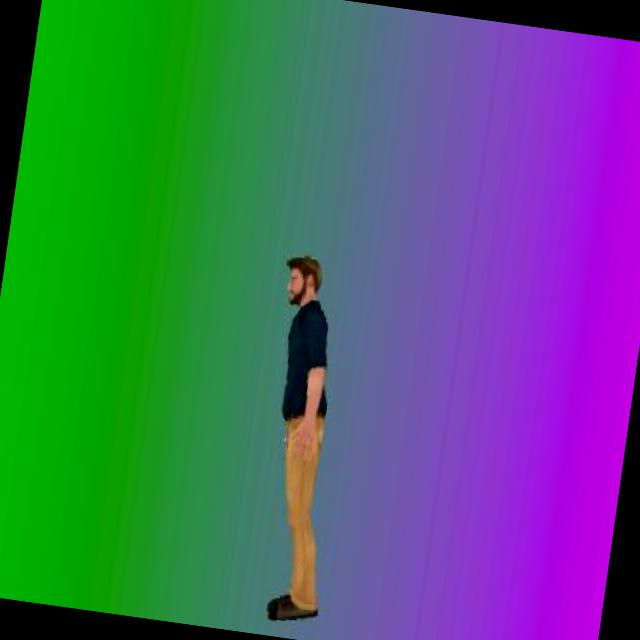Person: (232, 251, 366, 628)
